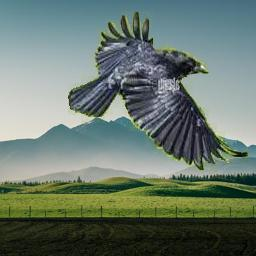Crow: (68, 10, 250, 172)
